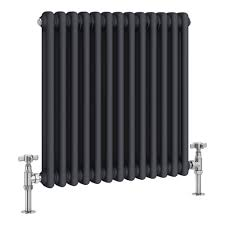Radiator: (18, 9, 209, 192)
